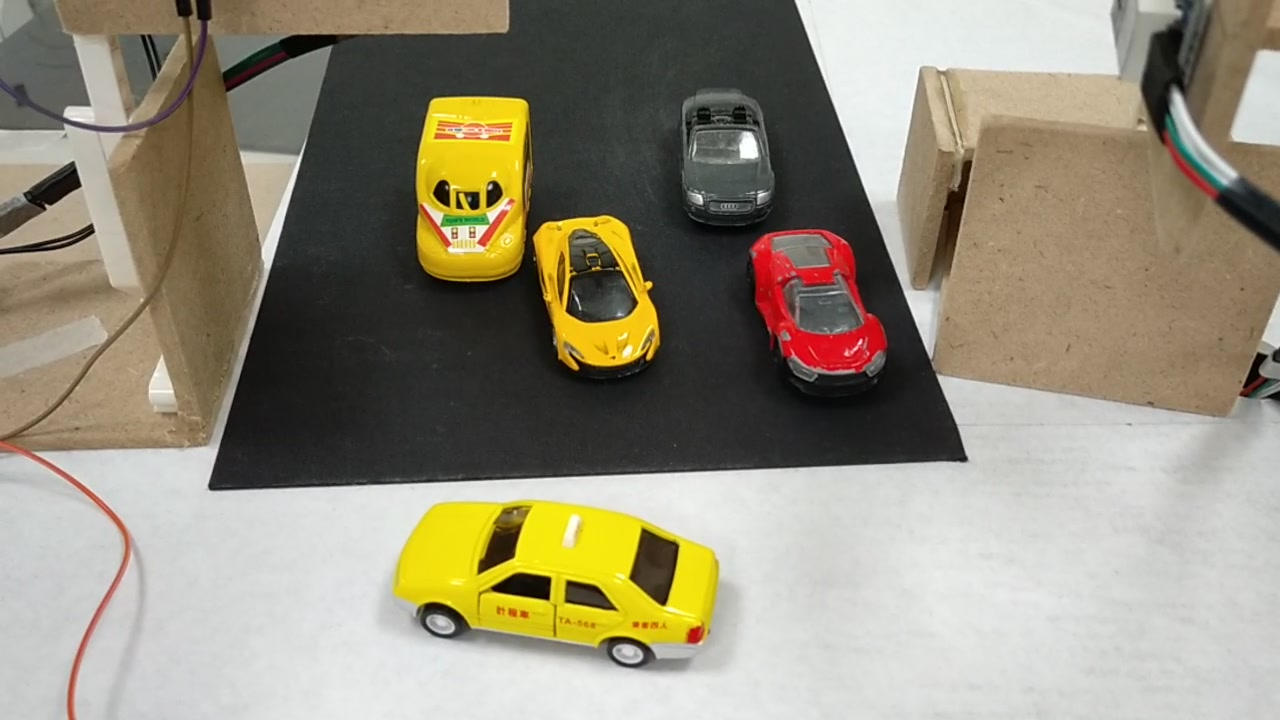car: (392, 503, 721, 662), (746, 230, 893, 393), (534, 213, 661, 385), (676, 87, 775, 226)
